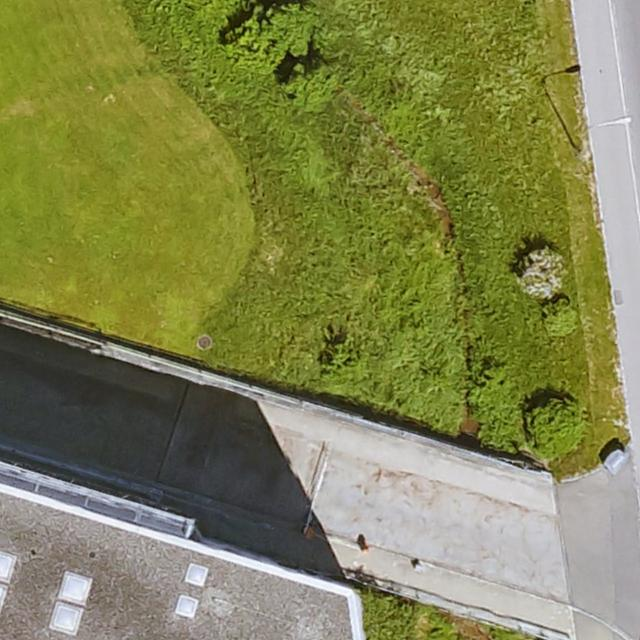tree: (227, 2, 314, 78), (523, 400, 583, 458), (513, 245, 566, 300), (284, 63, 338, 109), (544, 295, 578, 337)
